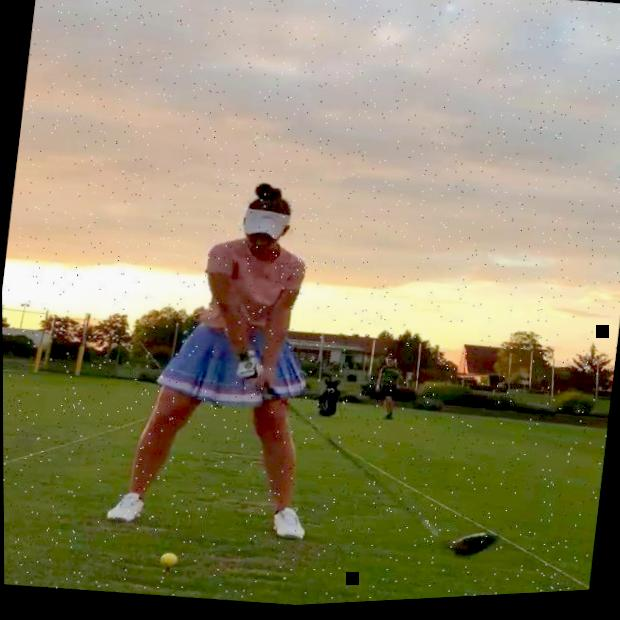ClubHead: (450, 532, 500, 567)
GolfBall: (159, 553, 177, 569)
